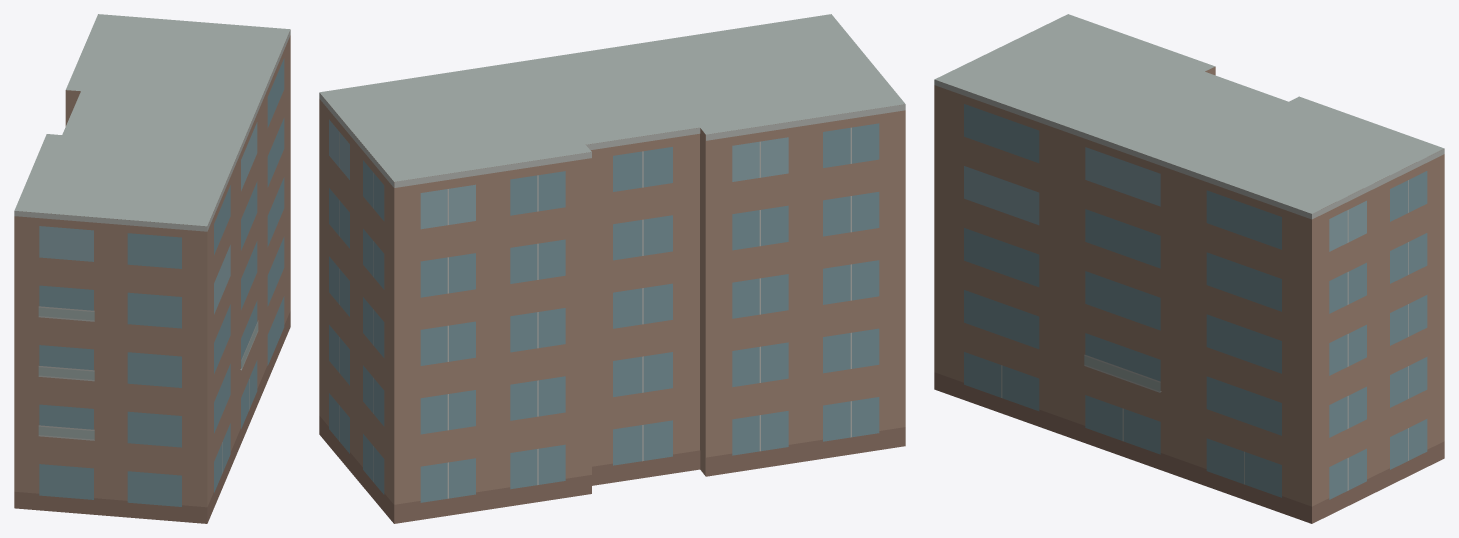
File: survey-upis-33011086.glb
3 renders of one model, left to right at view 1: azimuth 30°, elevation 25°; view 2: azimuth 150°, elevation 25°; view 3: azimuth 270°, elevation 25°, orthographic. The views are drawn at different scales.
Parts seen in each view (by area): view 1: survey-upis-33011086.tmp; view 2: survey-upis-33011086.tmp; view 3: survey-upis-33011086.tmp.
Boxes of the visible parts, x1,y1,x2,y2 form: survey-upis-33011086.tmp: [14, 14, 290, 523]; survey-upis-33011086.tmp: [319, 14, 905, 523]; survey-upis-33011086.tmp: [934, 14, 1444, 523].
Size of the model in its own units: 18.68 by 13.5 by 20.14.
